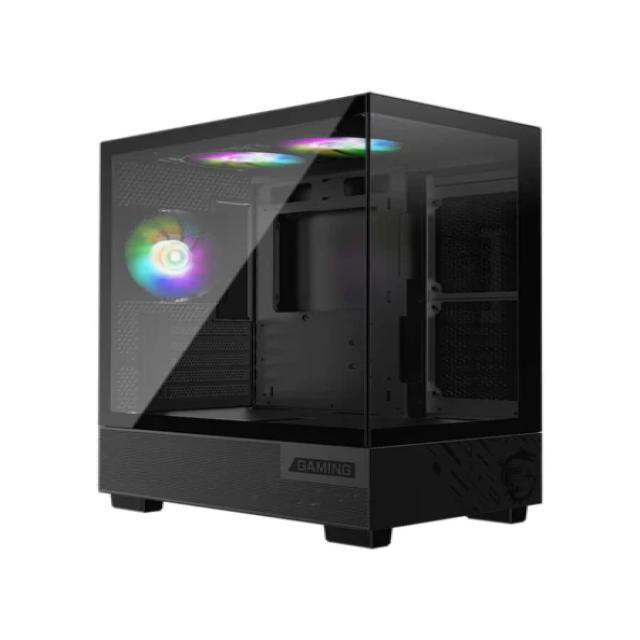electronics: (100, 93, 538, 544), (128, 209, 215, 298), (280, 135, 397, 156), (181, 150, 302, 166)
